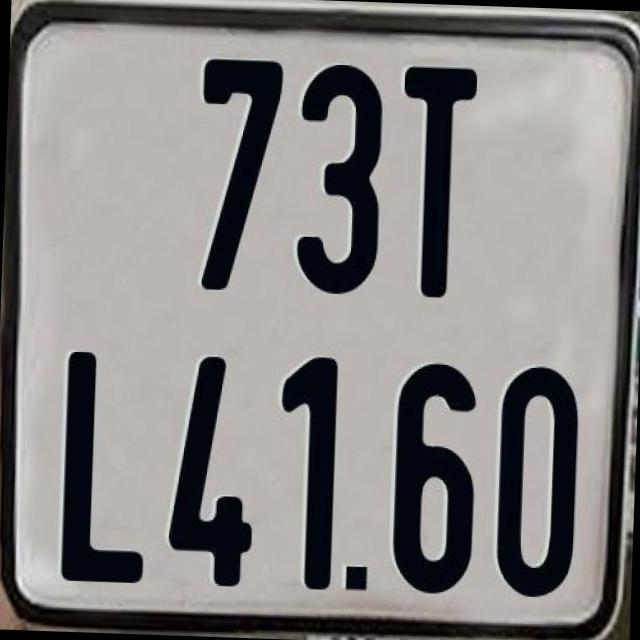0: (493, 361, 583, 595)
1: (274, 354, 342, 597)
3: (296, 58, 390, 293)
4: (165, 354, 260, 588)
6: (389, 359, 477, 596)
7: (195, 58, 288, 294)
L: (56, 348, 146, 580)
T: (394, 64, 479, 306)
